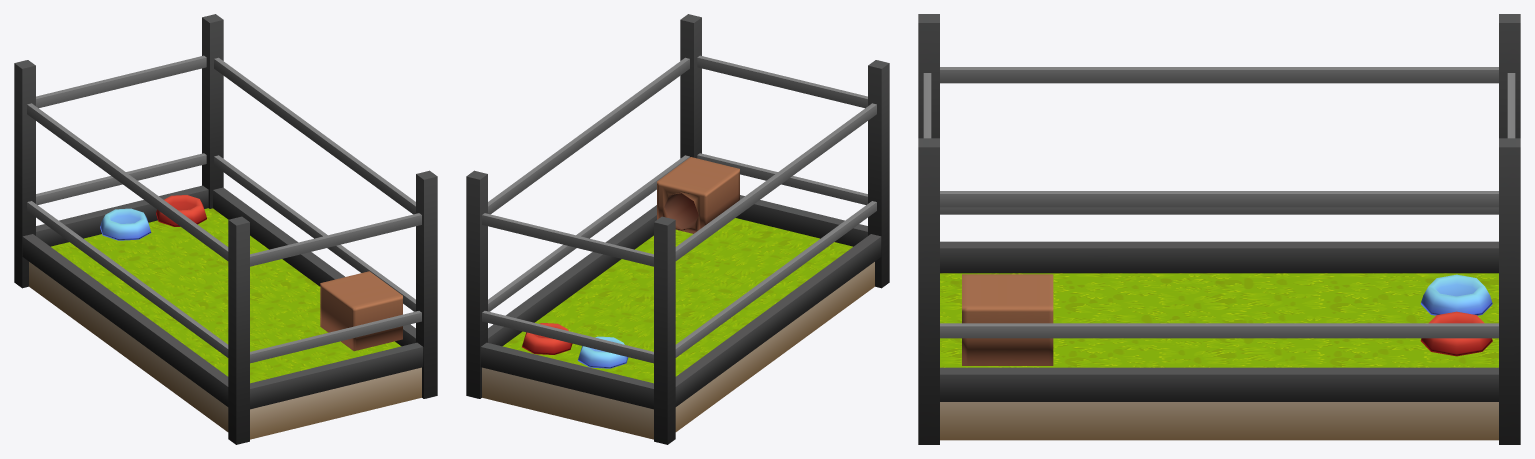
File: cage single.fbx
3 views of the same model, side by side, from view 1: azimuth 30°, elevation 25°; view 2: azimuth 150°, elevation 25°; view 3: azimuth 270°, elevation 25° (orthographic). The views are drawn at different scales.
Visible parts, largest first — view 1: Cube.304, Cube.305; view 2: Cube.304, Cube.305; view 3: Cube.304, Cube.305.
Boxes of the visible parts, <box> form: Cube.304: <box>14,14,437,444</box>; Cube.305: <box>51,208,401,383</box>; Cube.304: <box>466,14,889,444</box>; Cube.305: <box>502,218,852,383</box>; Cube.304: <box>918,14,1520,444</box>; Cube.305: <box>940,273,1498,367</box>.
Size of the model in its own units: 54.11 by 56.31 by 103.
2 materials, 2 textured.
